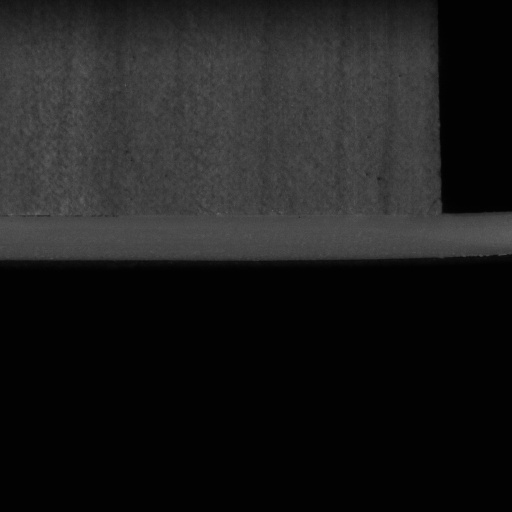changdai: (436, 208, 511, 261)
